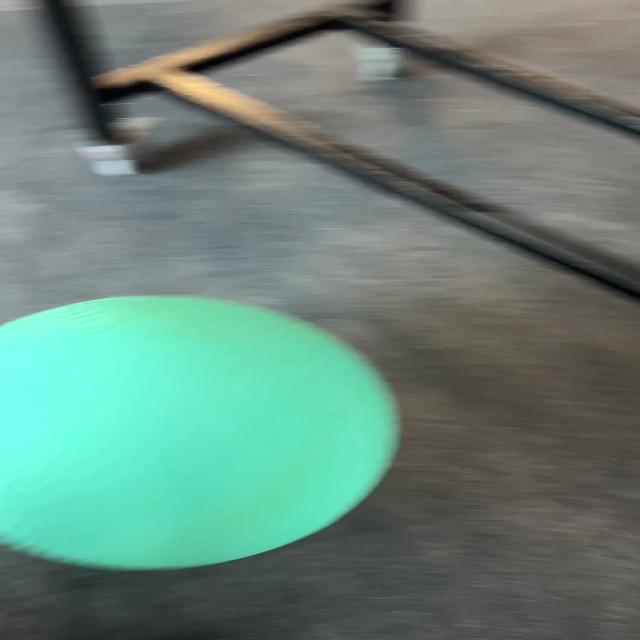Algae: (1, 294, 402, 572)
